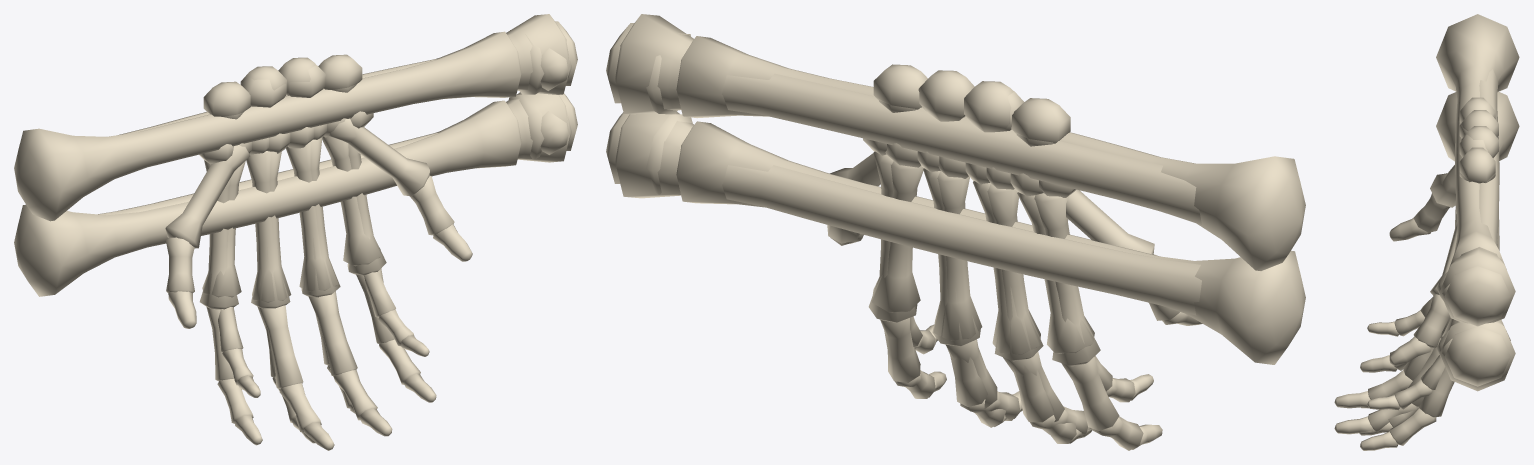
File: bone_arm.glb
3 views of the same model, side by side, from view 1: azimuth 30°, elevation 25°; view 2: azimuth 150°, elevation 25°; view 3: azimuth 270°, elevation 25° (orthographic). The views are drawn at different scales.
Visible parts, largest first — view 1: ForearmR, ForearmL, HandR, HandL; view 2: ForearmR, ForearmL, HandR, HandL; view 3: ForearmR, HandL, ForearmL, HandR.
Part boxes in pixels (box(x1,y1,x2,y2)): ForearmR: box(14, 31, 577, 221); ForearmL: box(14, 14, 577, 296); HandR: box(165, 65, 429, 450); HandL: box(202, 54, 472, 443); ForearmR: box(606, 36, 1305, 315); ForearmL: box(606, 14, 1305, 364); HandR: box(872, 81, 1202, 450); HandL: box(827, 64, 1153, 443); ForearmR: box(1436, 14, 1519, 391); HandL: box(1334, 117, 1498, 450); ForearmL: box(1436, 69, 1519, 326); HandR: box(1334, 97, 1498, 435).
Bounding box in the file's own units: 1.26 × 0.7022 × 0.3899.
